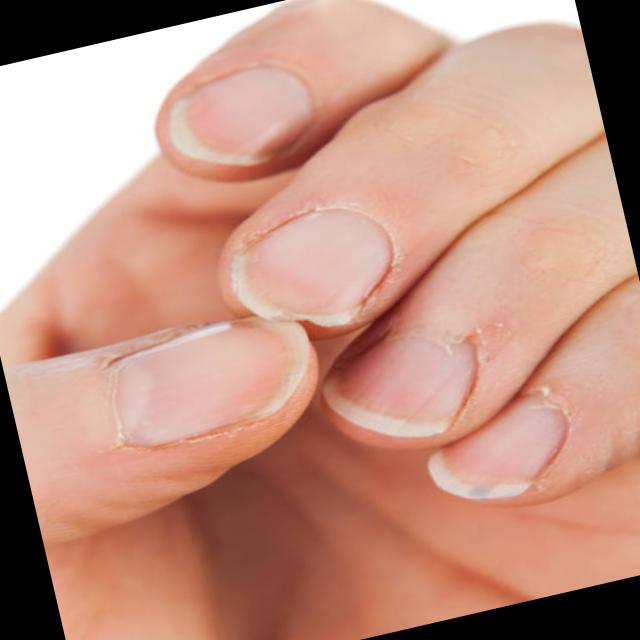Nail: (114, 320, 311, 446), (230, 208, 389, 327), (323, 337, 476, 438), (167, 66, 313, 165), (429, 397, 569, 500)
